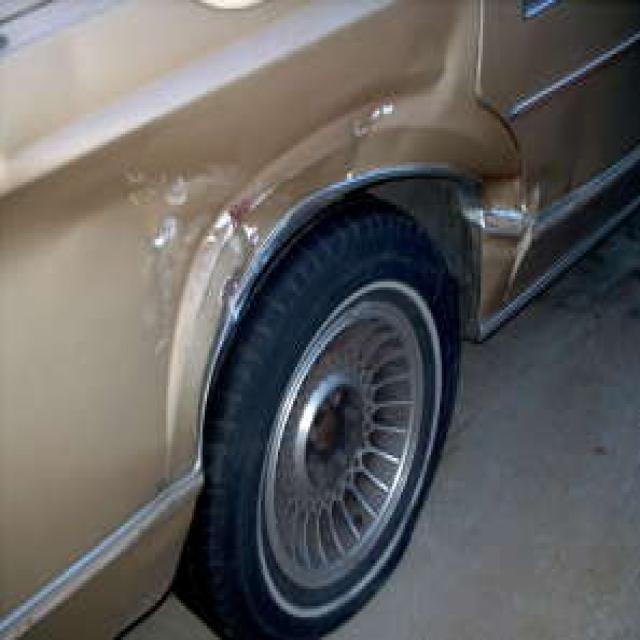dent: (0, 0, 587, 386)
scratch: (114, 160, 534, 324), (345, 94, 397, 143)
